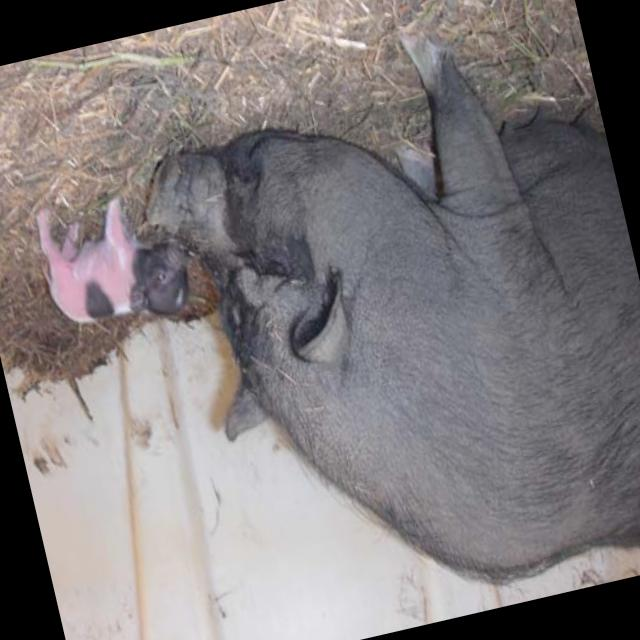pig: (145, 30, 640, 586), (35, 195, 188, 321)
